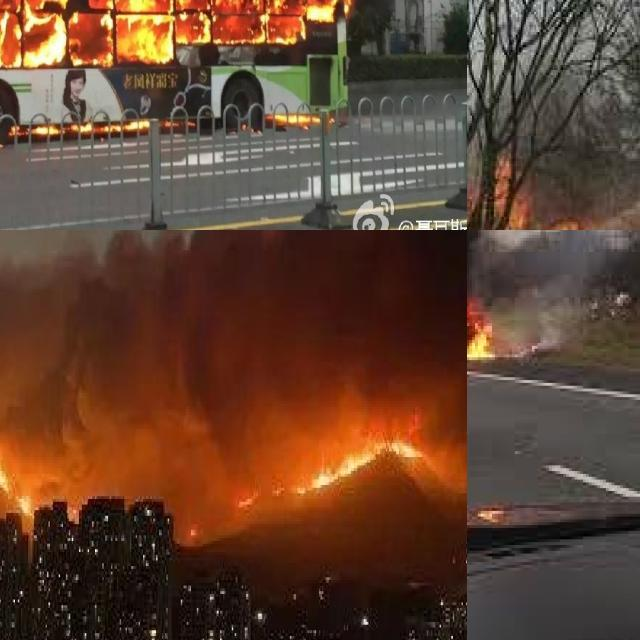fire: (0, 0, 356, 79), (230, 426, 431, 499), (485, 158, 640, 230), (0, 423, 38, 521), (467, 289, 509, 371)
smoke: (0, 230, 467, 513), (492, 278, 577, 352)
